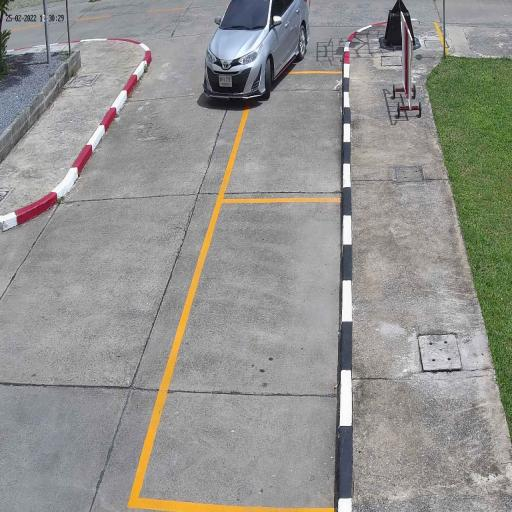car: (202, 0, 312, 105)
